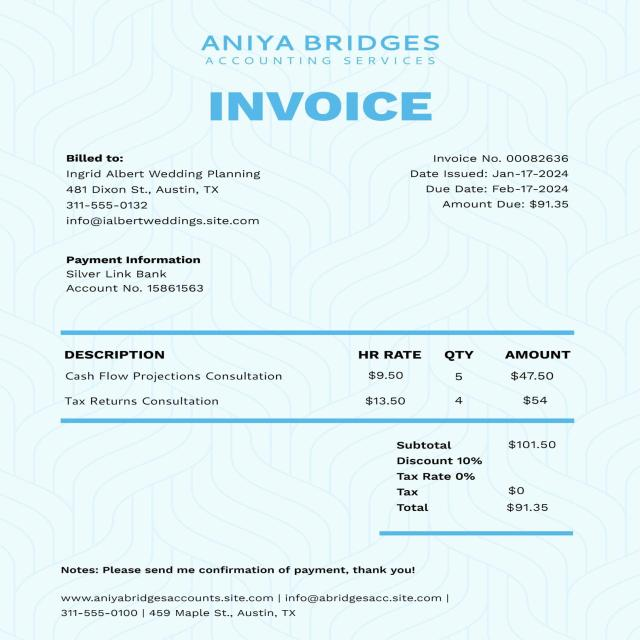paragraph: (60, 150, 273, 232), (380, 434, 571, 519), (62, 590, 449, 624), (194, 21, 449, 71), (408, 146, 570, 214), (62, 250, 219, 302), (193, 91, 445, 123), (58, 558, 423, 576)
table: (58, 329, 573, 416)
